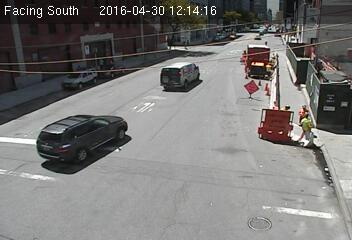neg: (237, 80, 262, 112), (236, 45, 254, 68), (260, 73, 272, 89), (270, 51, 277, 61)
pos: (298, 114, 319, 142)
